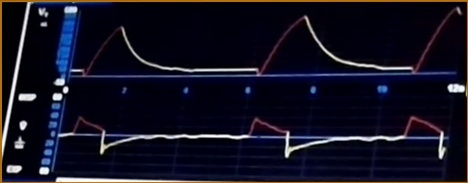Flow: (66, 103, 447, 172)
Leakage Volume: (71, 15, 451, 83)
